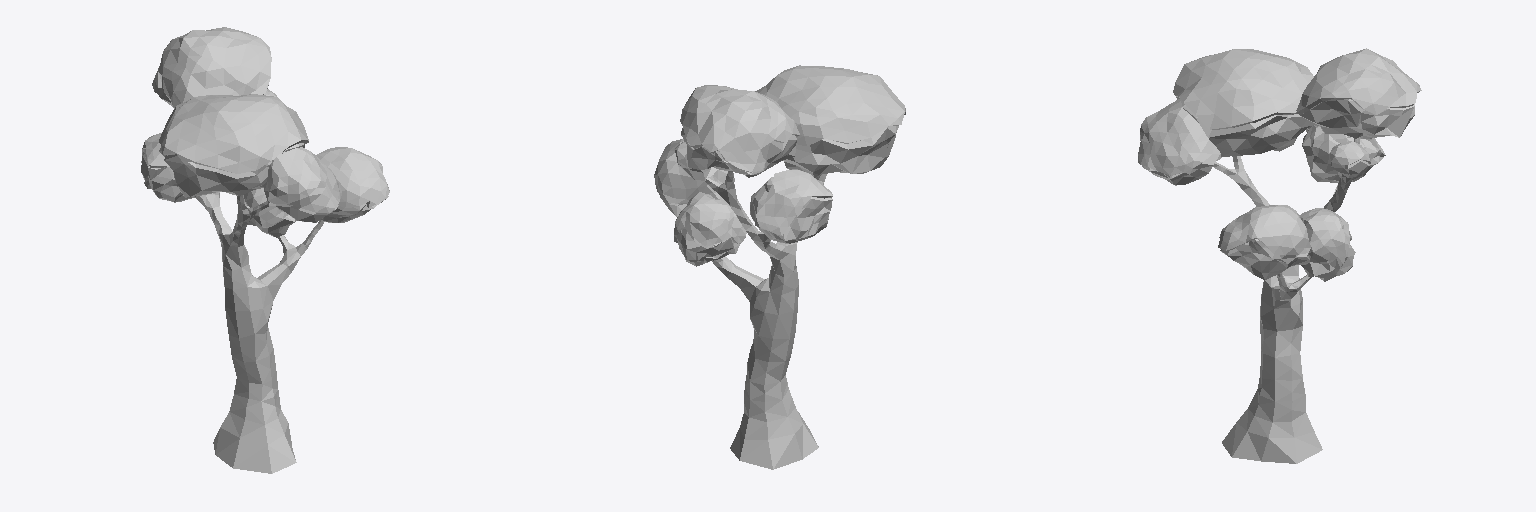
Rendered from common_tree_3_snow.obj.
3 views of the same model, side by side, from view 1: azimuth 30°, elevation 25°; view 2: azimuth 150°, elevation 25°; view 3: azimuth 270°, elevation 25° (orthographic).
Visible parts, largest first — view 1: common_tree_3_snow_snow, common_tree_3_snow_trunk, common_tree_3_snow_leaves_dark, common_tree_3_snow_leaves; view 2: common_tree_3_snow_snow, common_tree_3_snow_trunk, common_tree_3_snow_leaves_dark, common_tree_3_snow_leaves; view 3: common_tree_3_snow_snow, common_tree_3_snow_trunk, common_tree_3_snow_leaves_dark, common_tree_3_snow_leaves.
Part boxes in pixels (bbox=[...]): common_tree_3_snow_snow: bbox=[141, 27, 389, 227]; common_tree_3_snow_trunk: bbox=[195, 192, 324, 473]; common_tree_3_snow_leaves_dark: bbox=[141, 77, 388, 222]; common_tree_3_snow_leaves: bbox=[248, 197, 338, 237]; common_tree_3_snow_snow: bbox=[654, 65, 905, 246]; common_tree_3_snow_trunk: bbox=[705, 171, 826, 469]; common_tree_3_snow_leaves_dark: bbox=[659, 126, 898, 243]; common_tree_3_snow_leaves: bbox=[677, 160, 740, 266]; common_tree_3_snow_snow: bbox=[1138, 48, 1421, 263]; common_tree_3_snow_trunk: bbox=[1213, 137, 1360, 463]; common_tree_3_snow_leaves_dark: bbox=[1176, 97, 1414, 279]; common_tree_3_snow_leaves: bbox=[1142, 160, 1368, 281].
Size of the model in its own units: 3.73 by 6.1 by 4.04.